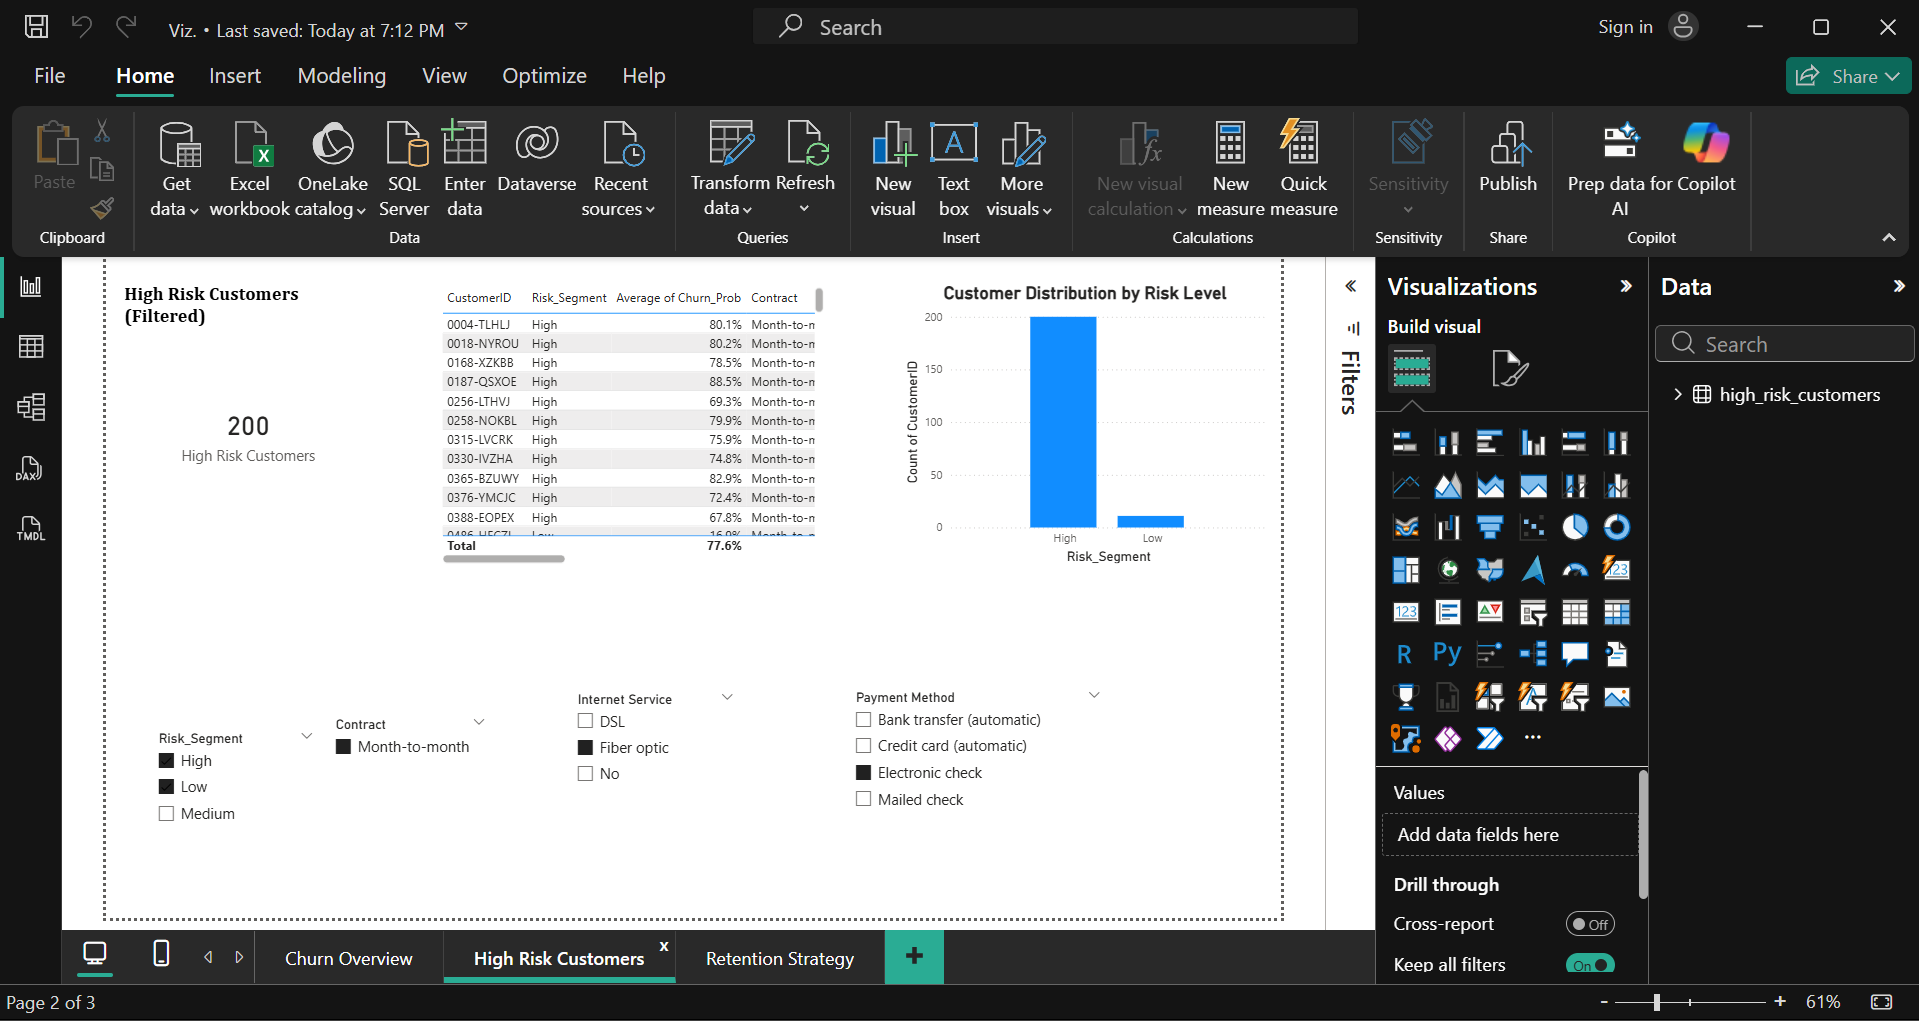

The page's visual inventory and layout, read from the dashboard file:
{"tool":"powerbi","page":{"name":"High Risk Customers","canvas":[1280,720],"ordinal":1},"visuals":[{"type":"card","title":"High Risk Customers (Filtered)","fields":{"Values":["high_risk_customers.High Risk Customers"]},"box":[15.3,28.8,279.7,279.7],"z":0},{"type":"tableEx","fields":{"Values":["high_risk_customers.CustomerID","high_risk_customers.Risk_Segment","Avg(high_risk_customers.Churn_Prob)","high_risk_customers.Contract","Sum(high_risk_customers.Tenure Months)","Sum(high_risk_customers.Monthly Charges)","high_risk_customers.Internet Service","Sum(high_risk_customers.service_count)","high_risk_customers.Payment Method","Sum(high_risk_customers.service_count)"]},"box":[361,28.8,425.4,310.2],"z":1000},{"type":"slicer","fields":{"Values":["high_risk_customers.Risk_Segment"]},"box":[44.1,510.2,193.2,149.2],"z":2000},{"type":"slicer","fields":{"Values":["high_risk_customers.Contract"]},"box":[237.3,496.6,188.1,162.7],"z":3000},{"type":"slicer","fields":{"Values":["high_risk_customers.Internet Service"]},"box":[500,467.8,194.9,147.5],"z":4000},{"type":"slicer","fields":{"Values":["high_risk_customers.Payment Method"]},"box":[803.4,466.1,291.5,167.8],"z":5000},{"type":"columnChart","title":"Customer Distribution by Risk Level","fields":{"Category":["high_risk_customers.Risk_Segment"],"Y":["CountNonNull(high_risk_customers.CustomerID)"]},"box":[864.4,28.8,403.4,310.2],"z":6000}]}

Visuals, with their boxes on the page's 1280x720 design canvas (x1, y1, x2, y2). These are canvas units, not pixel positions in the 1919x1021 screenshot, which may show the page scaled, cropped or inside an application window:
"High Risk Customers (Filtered)" card: <box>15,29,295,308</box>
tableEx - high_risk_customers.CustomerID x high_risk_customers.Risk_Segment: <box>361,29,786,339</box>
slicer - high_risk_customers.Risk_Segment: <box>44,510,237,659</box>
slicer - high_risk_customers.Contract: <box>237,497,425,659</box>
slicer - high_risk_customers.Internet Service: <box>500,468,695,615</box>
slicer - high_risk_customers.Payment Method: <box>803,466,1095,634</box>
"Customer Distribution by Risk Level" columnChart: <box>864,29,1268,339</box>
